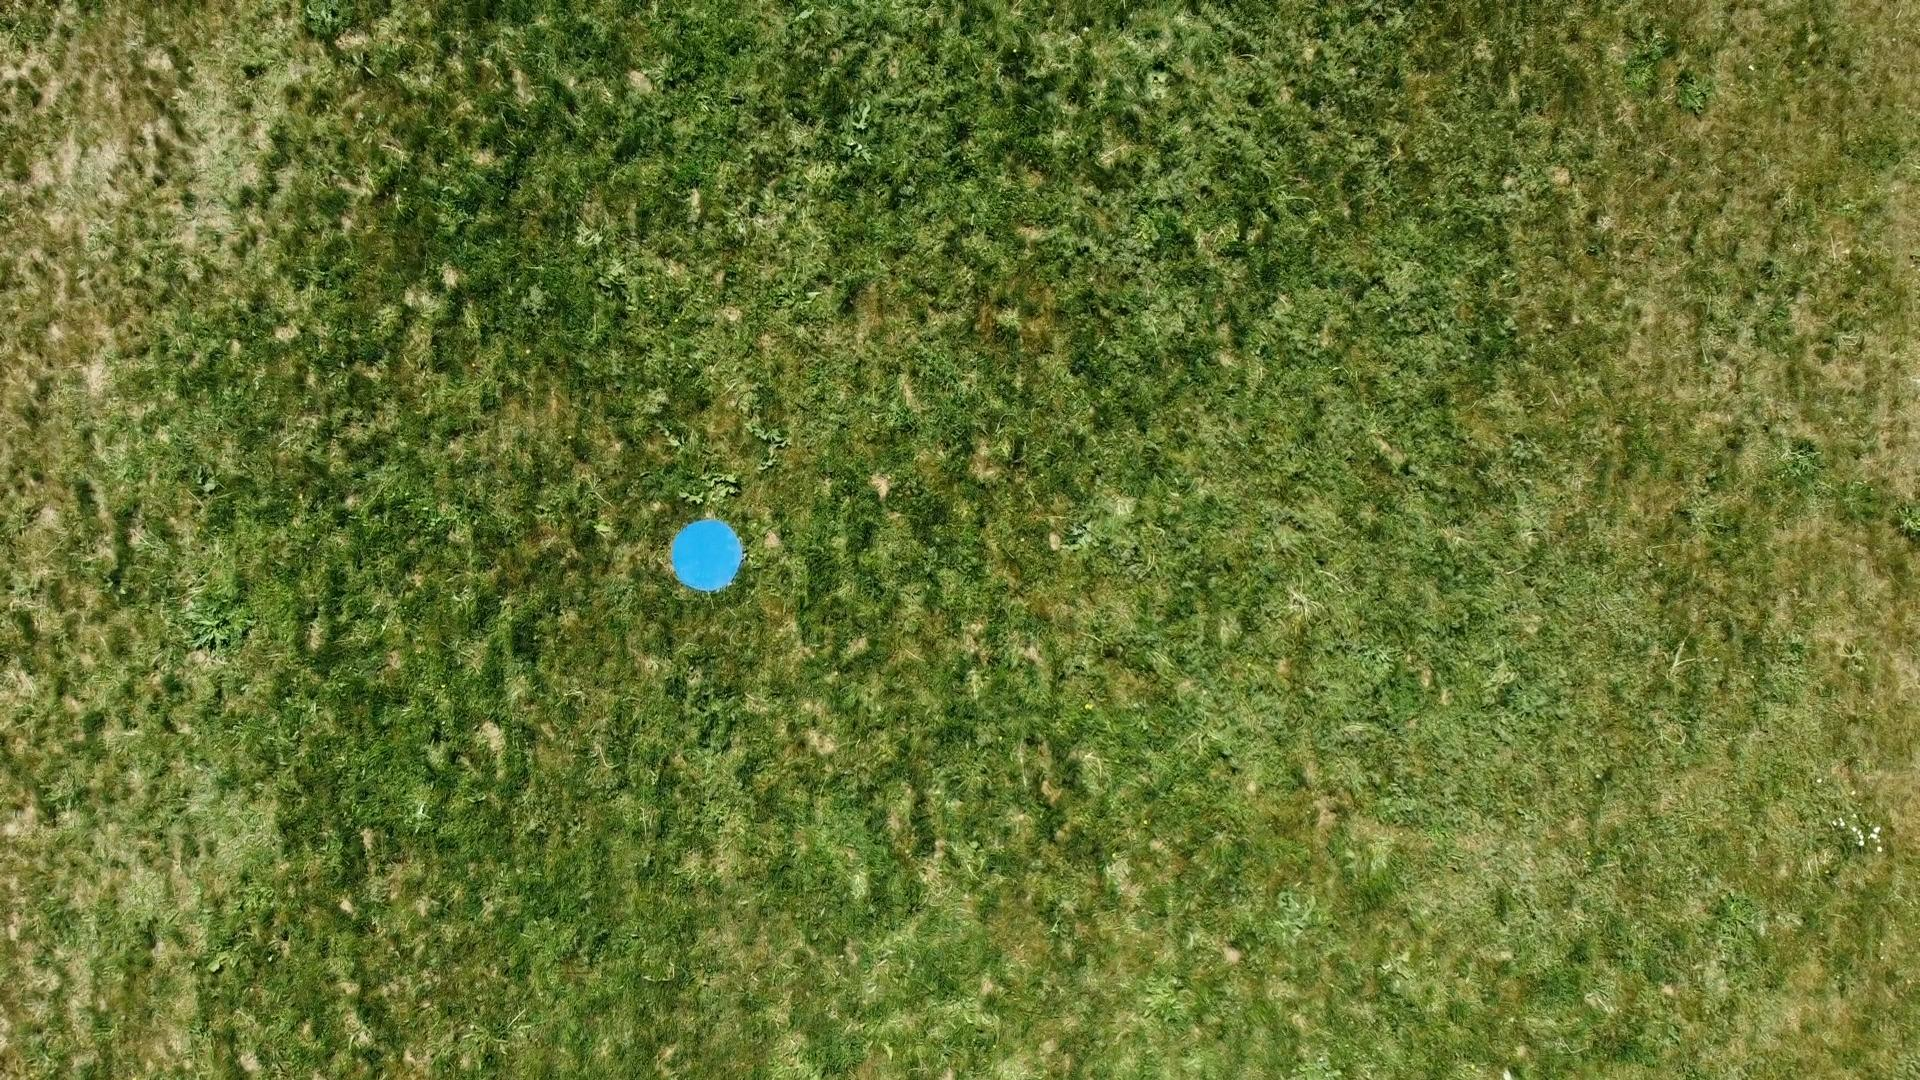Blue: (670, 517, 745, 595)
